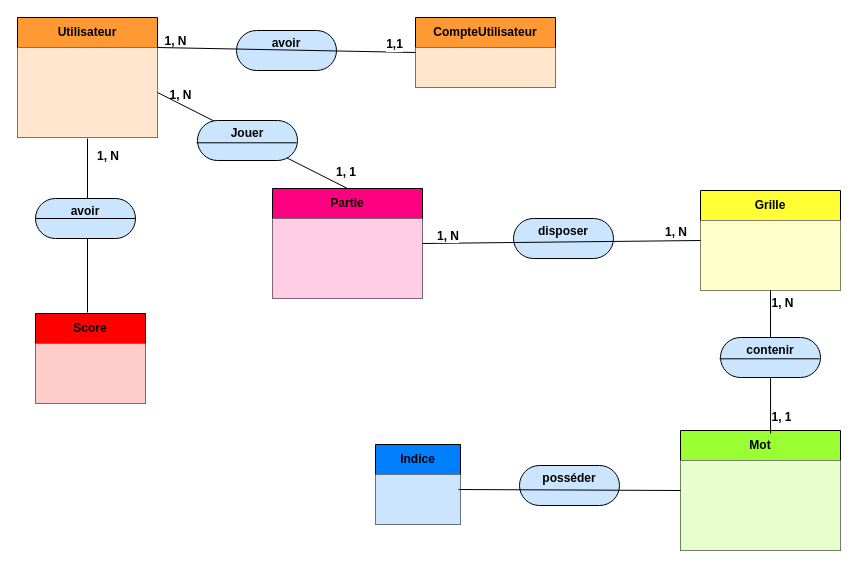
The diagram is 858 pixels wide and 568 high, and some of its shapes have lost their labels. Each missing label, with the centre of its shape:
"ID_compteutilisateur" belongs at pixel 485 67.
"ID_grille Titre Niveau_difficulté Date_publication" belongs at pixel 770 255.
"ID_indice Texte ID_mot" belongs at pixel 417 499.
"ID_mot Texte position_x position_y direction(horizontal/vertical) ID_grille" belongs at pixel 760 505.
"ID_partie date_heure ID_utilisateur ID_grille statut(en cours/terminée)" belongs at pixel 347 258.
"ID_score ID_utilisateur ID_partie points" belongs at pixel 90 373.
"ID_utilisateur Nom Email Mot_de_passe Date_inscription" belongs at pixel 87 92.
